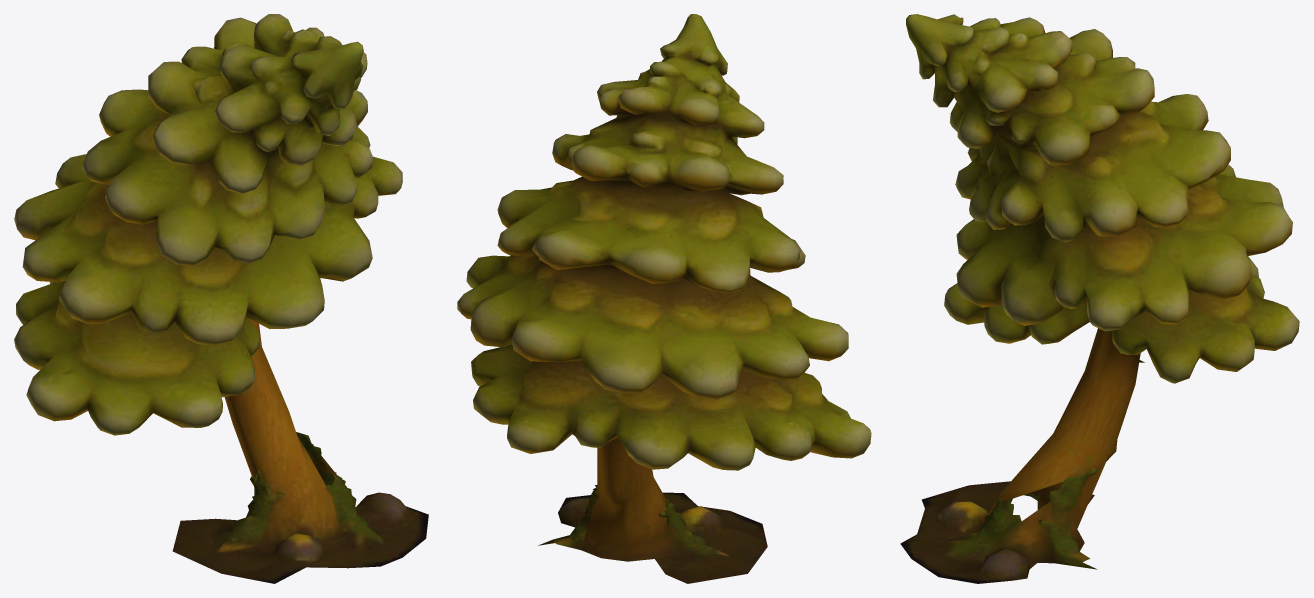
Rendered from pine_3.glb.
3 views of the same model, side by side, from view 1: azimuth 30°, elevation 25°; view 2: azimuth 150°, elevation 25°; view 3: azimuth 270°, elevation 25° (orthographic). The views are drawn at different scales.
Visible parts, largest first — view 1: tripo_node_df70ccfe-d3e5-47ec-a08f-d1b7f6b9cbc5; view 2: tripo_node_df70ccfe-d3e5-47ec-a08f-d1b7f6b9cbc5; view 3: tripo_node_df70ccfe-d3e5-47ec-a08f-d1b7f6b9cbc5.
Boxes of the visible parts, x1,y1,x2,y2 form: tripo_node_df70ccfe-d3e5-47ec-a08f-d1b7f6b9cbc5: (14,14,428,583); tripo_node_df70ccfe-d3e5-47ec-a08f-d1b7f6b9cbc5: (457,14,871,583); tripo_node_df70ccfe-d3e5-47ec-a08f-d1b7f6b9cbc5: (900,14,1299,583).
Size of the model in its own units: 5.87 by 7.4 by 5.14.
Materials: 1 (1 with a texture image).
